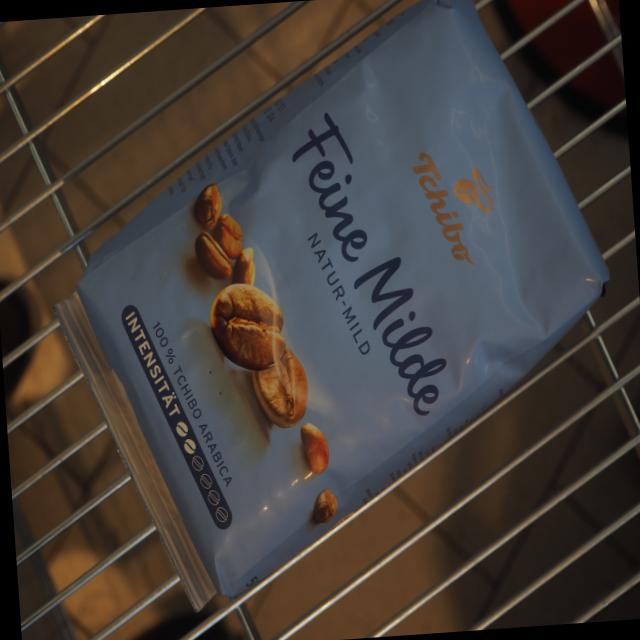FM Bohne: (28, 0, 638, 628)
